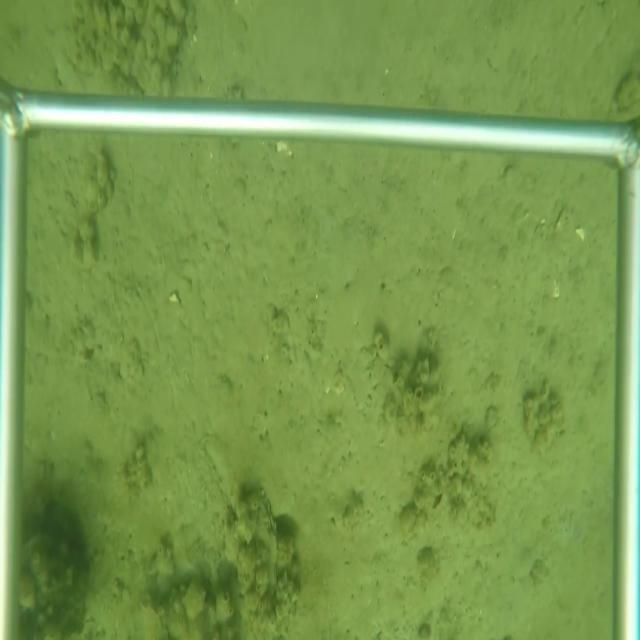Oyster-Closed: (220, 488, 280, 625)
